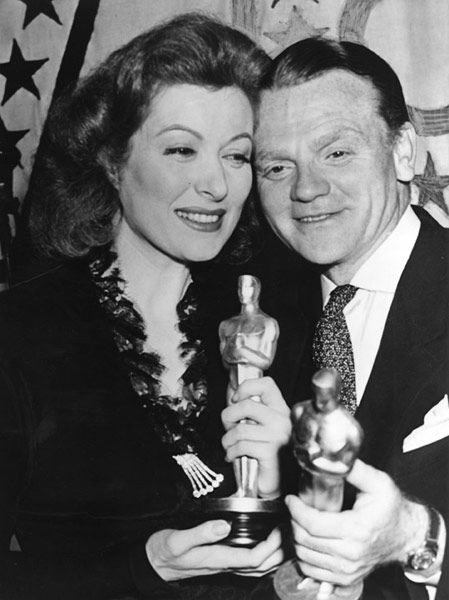hand: (136, 531, 290, 574)
